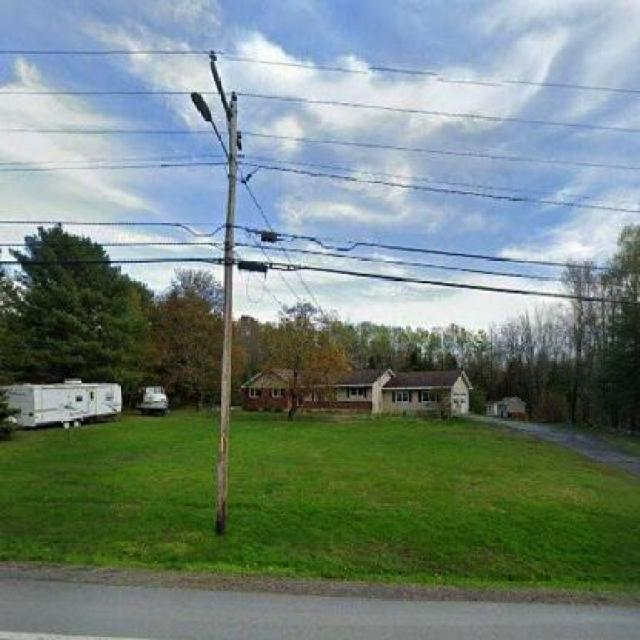crossarm: (211, 61, 230, 114)
pole: (214, 95, 240, 538)
wire: (0, 221, 640, 275), (1, 161, 640, 214), (2, 259, 640, 306), (1, 242, 640, 288), (0, 50, 640, 95), (1, 127, 640, 172), (0, 91, 640, 135), (239, 168, 329, 325)
